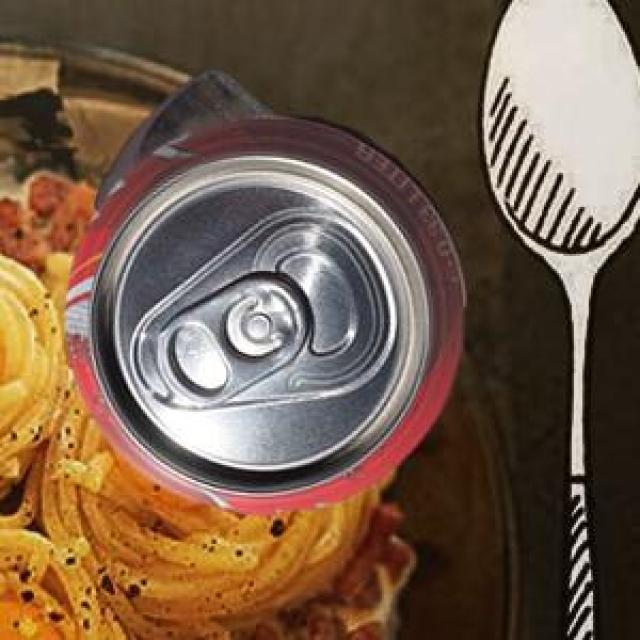Can: (63, 114, 462, 513), (93, 67, 272, 208)
